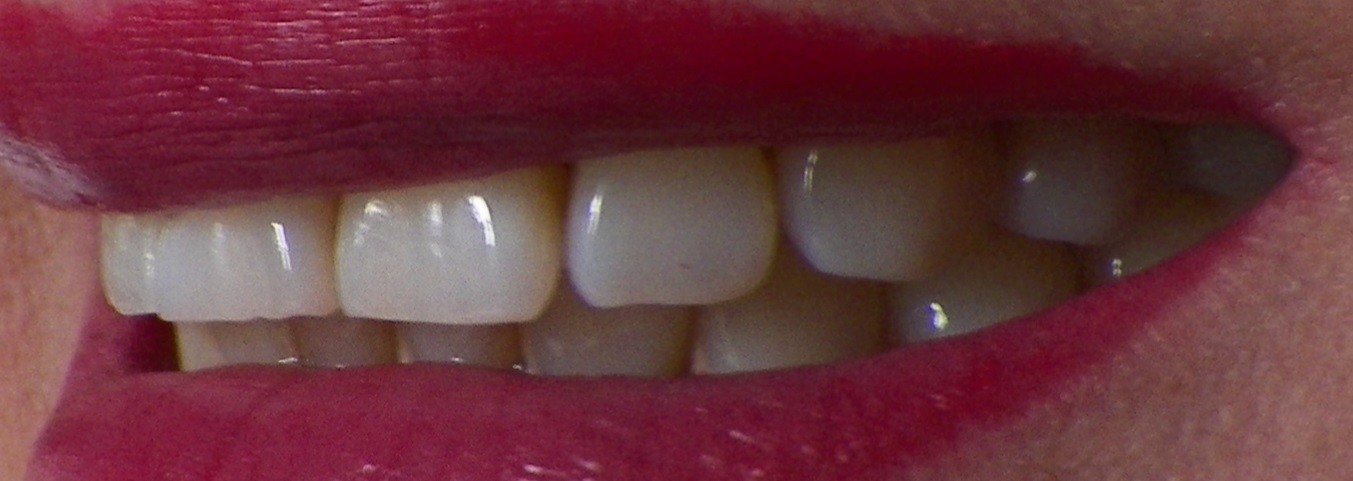boca: (108, 159, 1244, 394)
